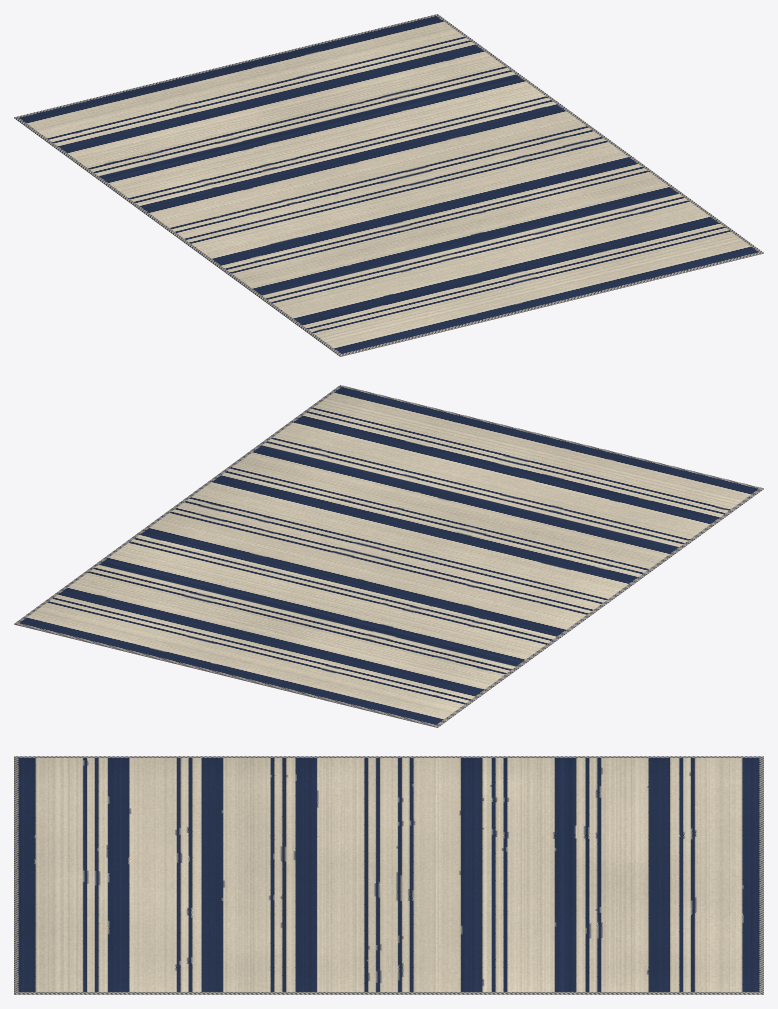
Rendered from rug-farmhouse-stripe.ec9f909f.glb.
3 views of the same model, one above another, from view 1: azimuth 30°, elevation 25°; view 2: azimuth 150°, elevation 25°; view 3: azimuth 270°, elevation 25° (orthographic). The views are drawn at different scales.
Parts seen in each view (by area): view 1: rug-farmhouse-stripe; view 2: rug-farmhouse-stripe; view 3: rug-farmhouse-stripe.
Boxes of the visible parts, bbox=[...] form: rug-farmhouse-stripe: bbox=[14, 14, 763, 356]; rug-farmhouse-stripe: bbox=[14, 385, 763, 727]; rug-farmhouse-stripe: bbox=[14, 756, 763, 994].
Size of the model in its own units: 1.8 by 0.004 by 2.4.
1 material, 1 textured.
